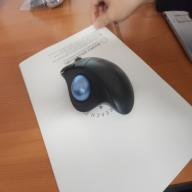mouse: (60, 55, 135, 117)
